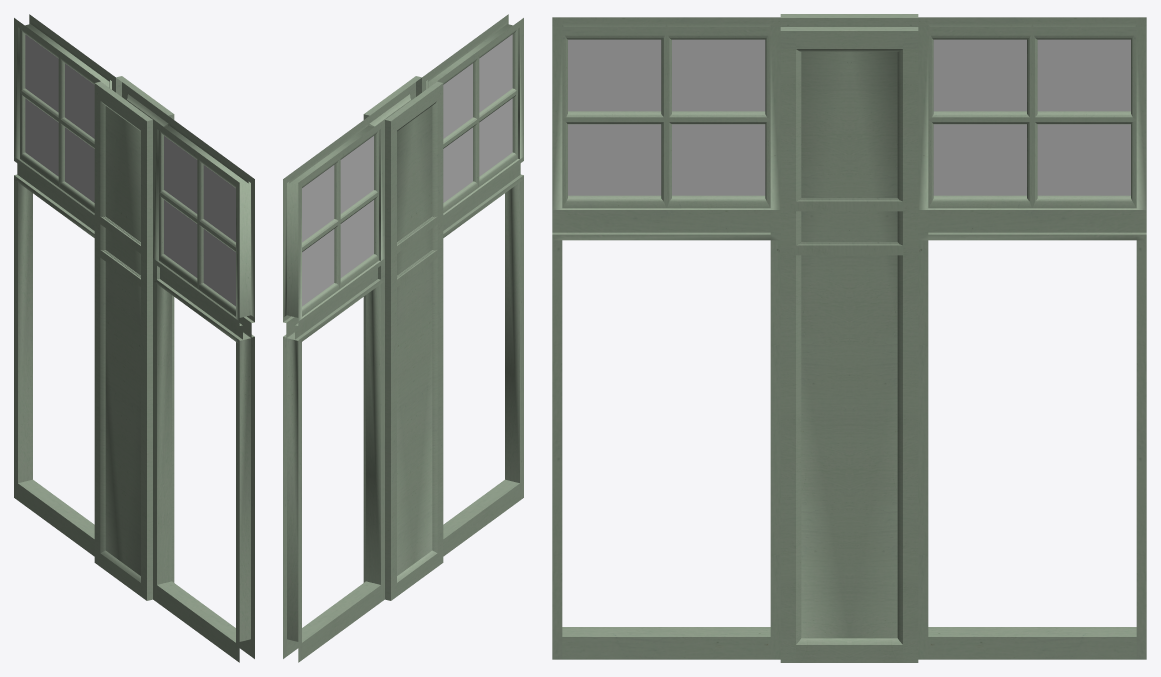
The model's file is SM_WW41_Frame.fbx.
3 views of the same model, side by side, from view 1: azimuth 30°, elevation 25°; view 2: azimuth 150°, elevation 25°; view 3: azimuth 270°, elevation 25° (orthographic). The views are drawn at different scales.
Parts seen in each view (by area): view 1: SM_WW41_Frame; view 2: SM_WW41_Frame; view 3: SM_WW41_Frame.
Part boxes in pixels (box(x1,y1,x2,y2)): SM_WW41_Frame: box(14, 14, 254, 662); SM_WW41_Frame: box(283, 14, 523, 662); SM_WW41_Frame: box(552, 14, 1146, 662).
Size of the model in its own units: 18.03 by 258 by 303.
2 materials, 1 textured.
